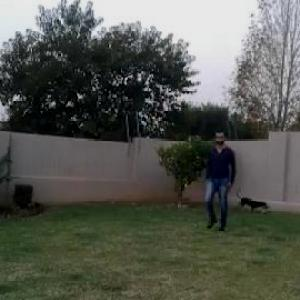follow: (205, 128, 236, 231)
